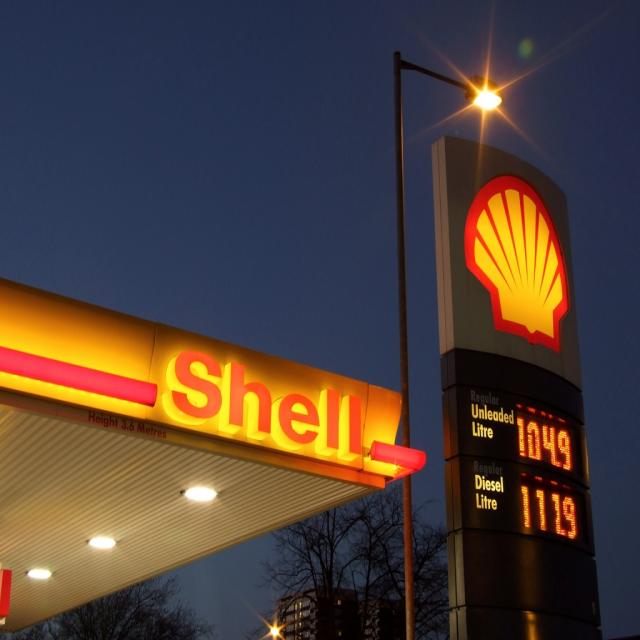shell: (462, 172, 569, 351)
